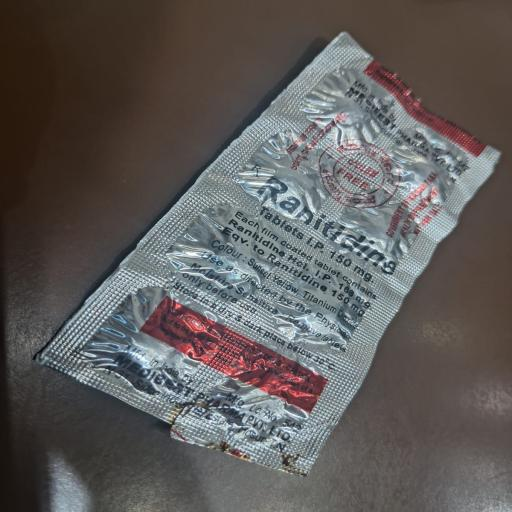medicine: (30, 14, 498, 481)
ranitidine: (239, 150, 408, 286)
